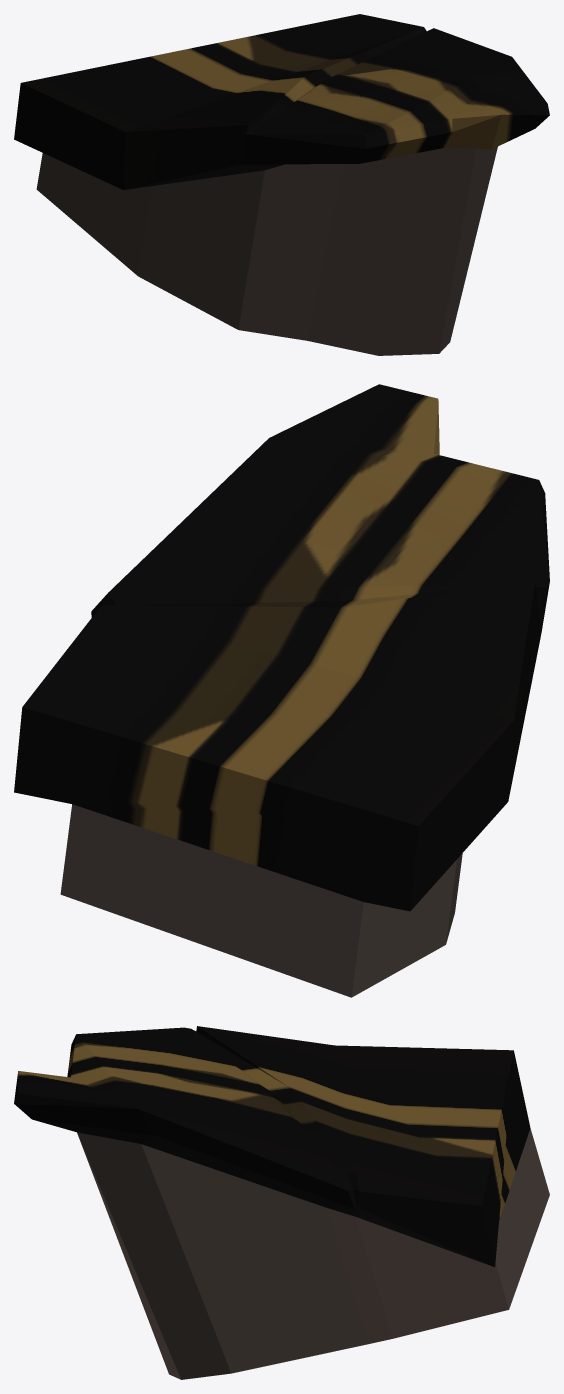
The model's file is SM_Env_Highway_Rubble_01.fbx.
The picture shows the model from 3 angles, top to bottom: view 1: azimuth 30°, elevation 25°; view 2: azimuth 150°, elevation 25°; view 3: azimuth 270°, elevation 25°; orthographic projection. The views are drawn at different scales.
Visible parts, largest first — view 1: SM_Env_Highway_Rubble_01; view 2: SM_Env_Highway_Rubble_01; view 3: SM_Env_Highway_Rubble_01.
Boxes of the visible parts, box(x1,y1,x2,y2) form: SM_Env_Highway_Rubble_01: box(14, 14, 549, 355); SM_Env_Highway_Rubble_01: box(14, 384, 549, 997); SM_Env_Highway_Rubble_01: box(14, 1026, 549, 1379).
Bounding box in the file's own units: 335 × 282 × 462.
